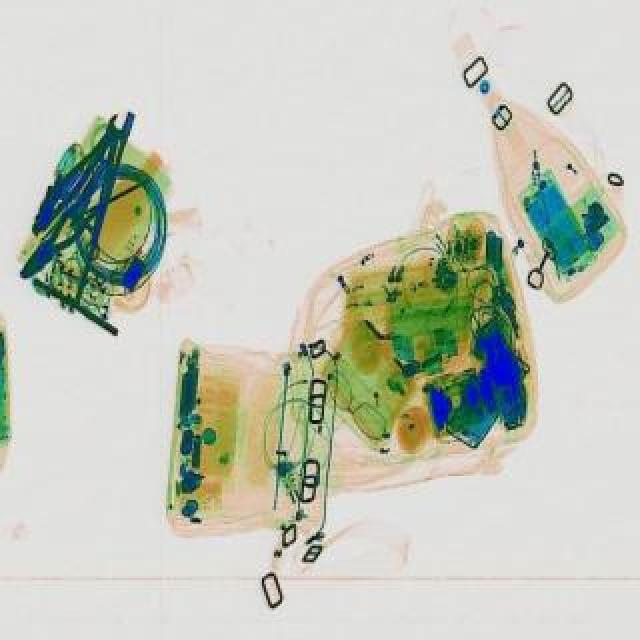scissors: (82, 122, 134, 262)
wrench: (14, 186, 116, 290)
